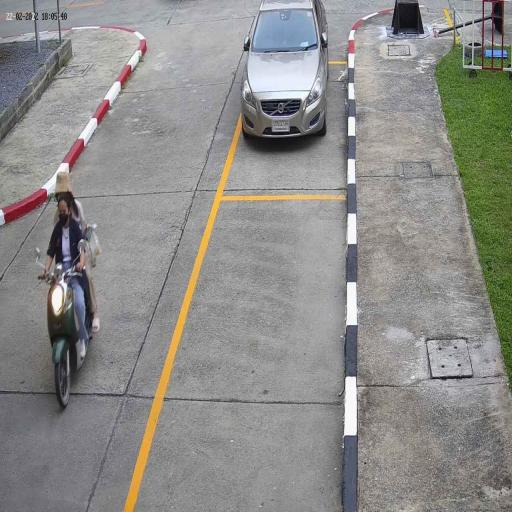car: (240, 0, 330, 143)
motorcycle: (45, 268, 78, 410)
